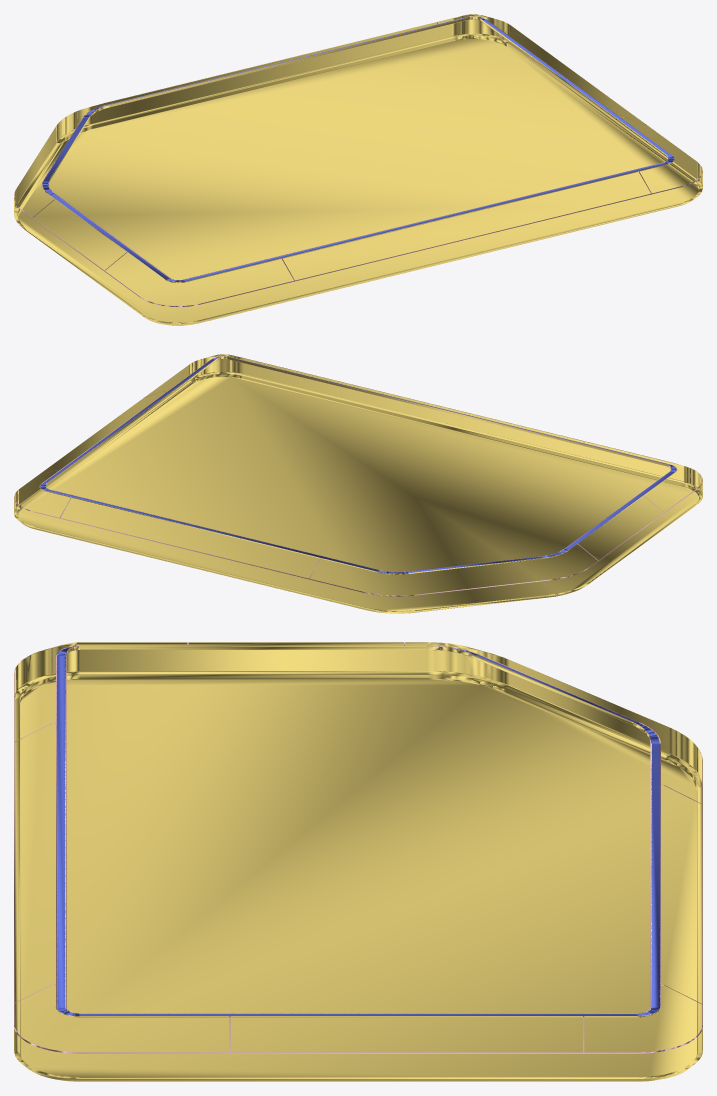
File: booth_plinth_1_a.glb
3 views of the same model, one above another, from view 1: azimuth 30°, elevation 25°; view 2: azimuth 150°, elevation 25°; view 3: azimuth 270°, elevation 25° (orthographic). The views are drawn at different scales.
Size of the model in its own units: 7 by 0.4261 by 5.
